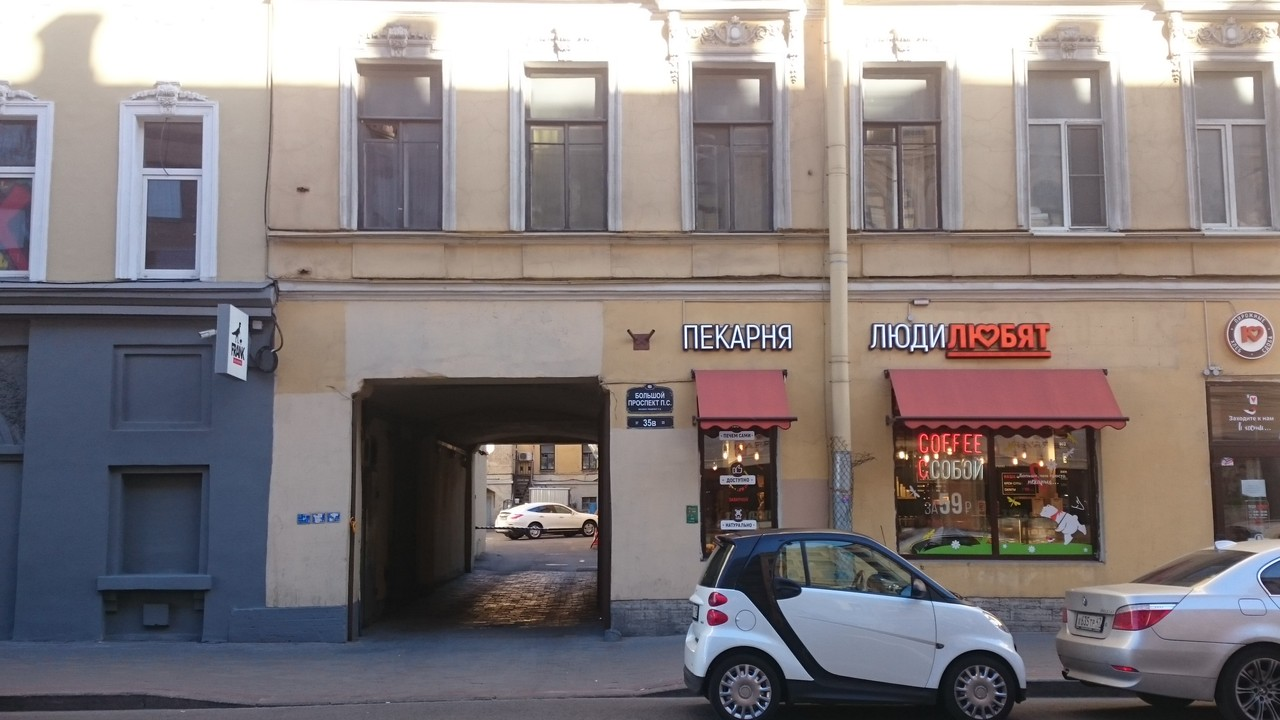arch: (350, 375, 612, 634)
cantilever: (214, 300, 260, 380)
signboard: (866, 321, 1054, 359), (682, 322, 793, 353), (1227, 312, 1273, 359)
window: (897, 421, 1097, 562), (354, 62, 444, 232), (690, 64, 773, 232), (522, 69, 607, 233), (1027, 66, 1110, 231), (1195, 68, 1275, 231), (862, 67, 940, 227), (138, 118, 207, 277), (697, 422, 773, 552)
